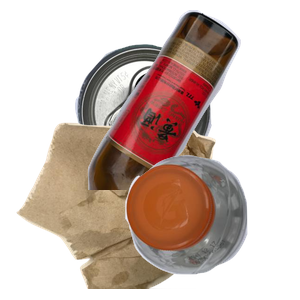glass: (85, 10, 300, 190)
metal: (73, 42, 277, 212)
plastic: (123, 152, 300, 300)
trash: (14, 120, 222, 300)
